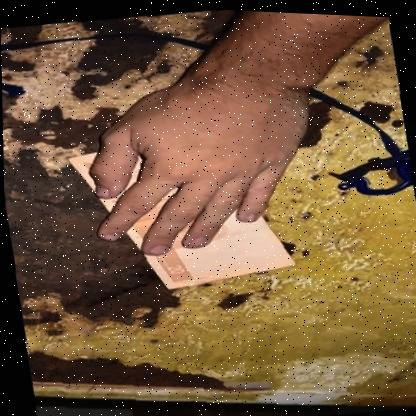twenty-back-vef: (65, 121, 296, 304)
